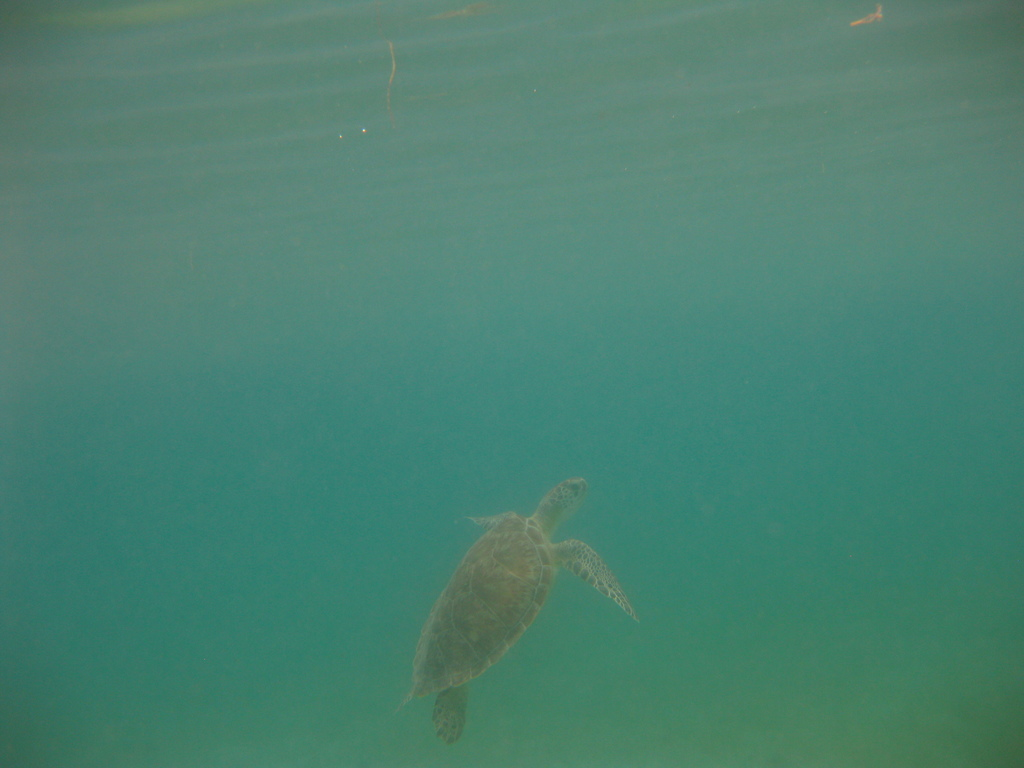Sea turtles: (397, 474, 641, 745)
